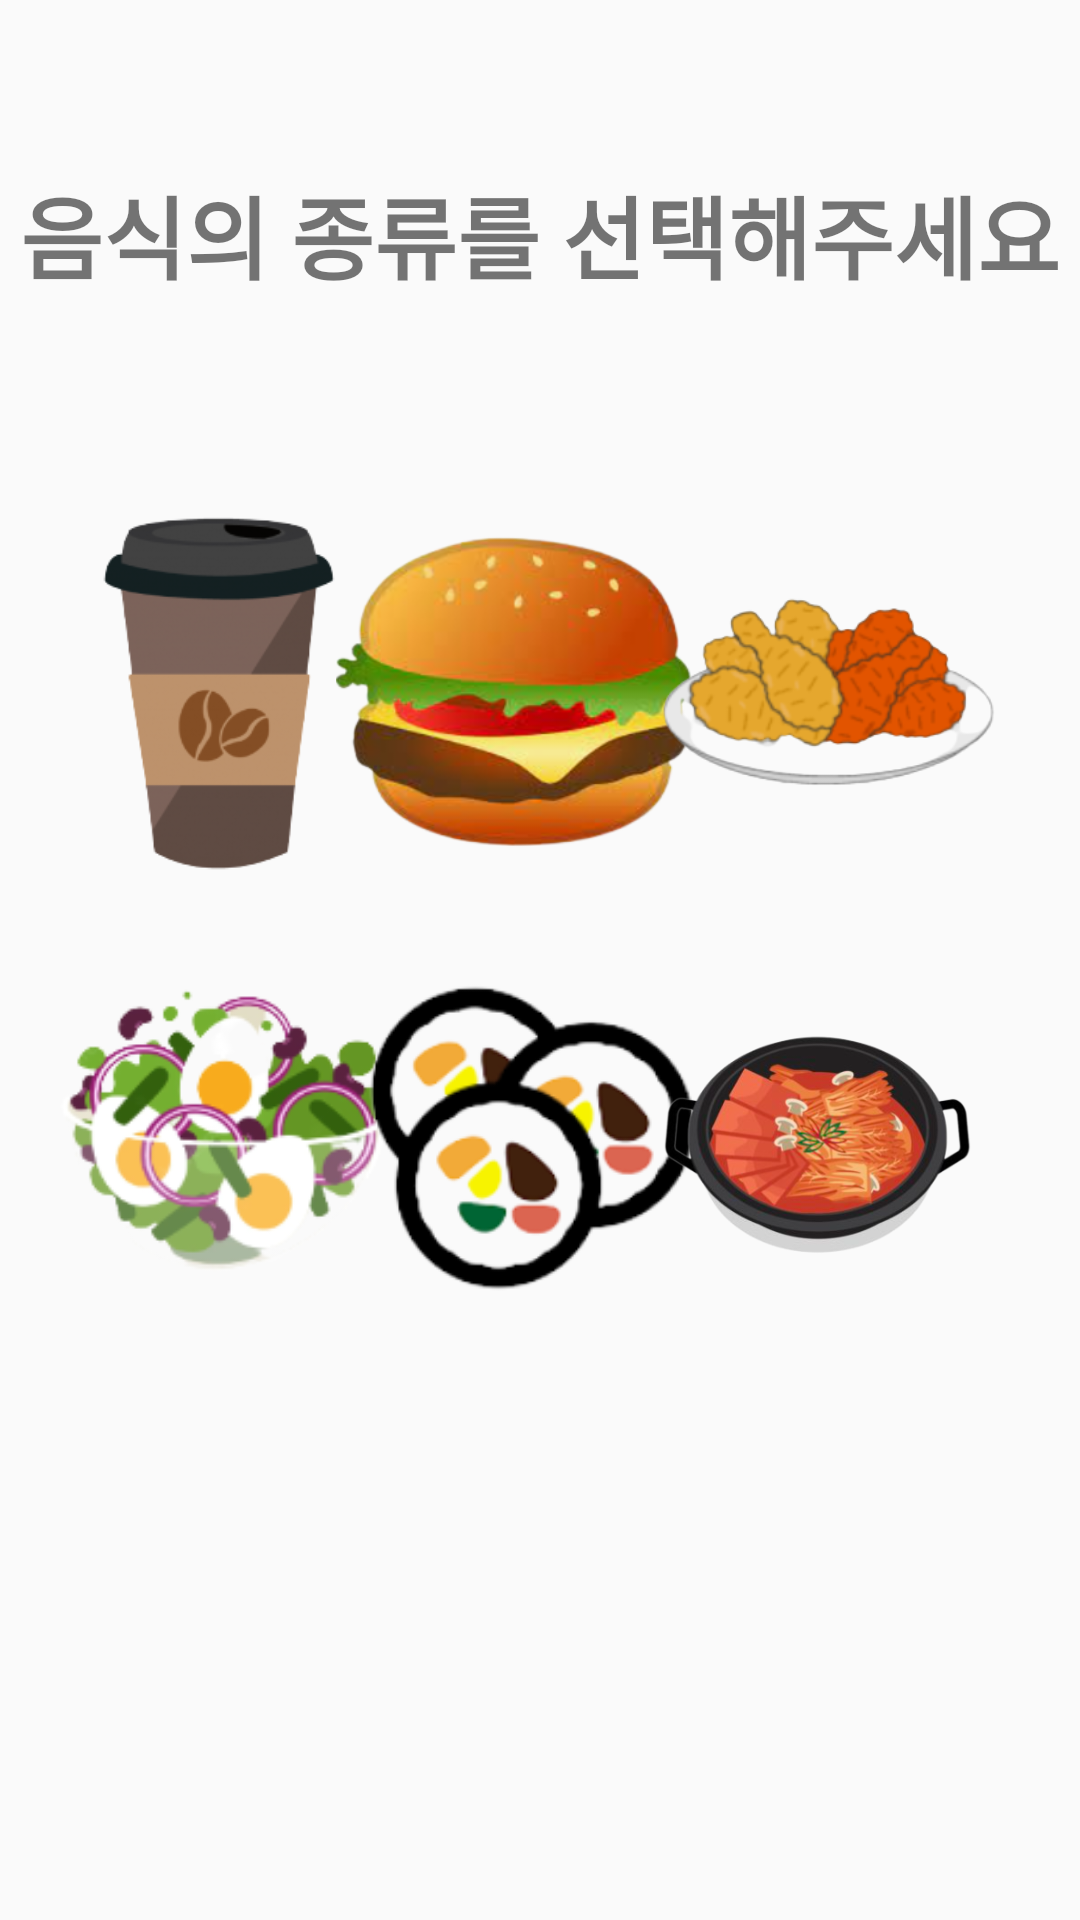

Icon bounding boxes for this 1080px×1920px phone screenshot, format (x1, y1, x2, y2):
chicken: (643, 573, 993, 817)
coffee: (104, 518, 334, 869)
hamberger: (336, 538, 696, 846)
kimbab: (346, 987, 706, 1289)
salad: (69, 991, 409, 1265)
